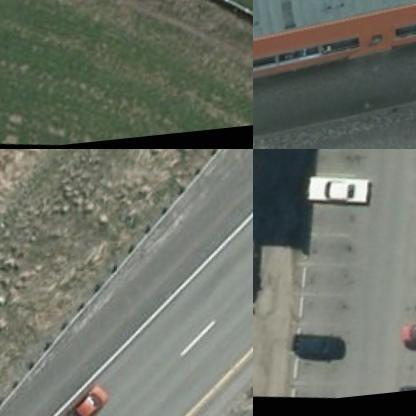car: (298, 174, 372, 216), (284, 332, 344, 374), (47, 379, 111, 415), (396, 323, 415, 367), (396, 387, 415, 397)
